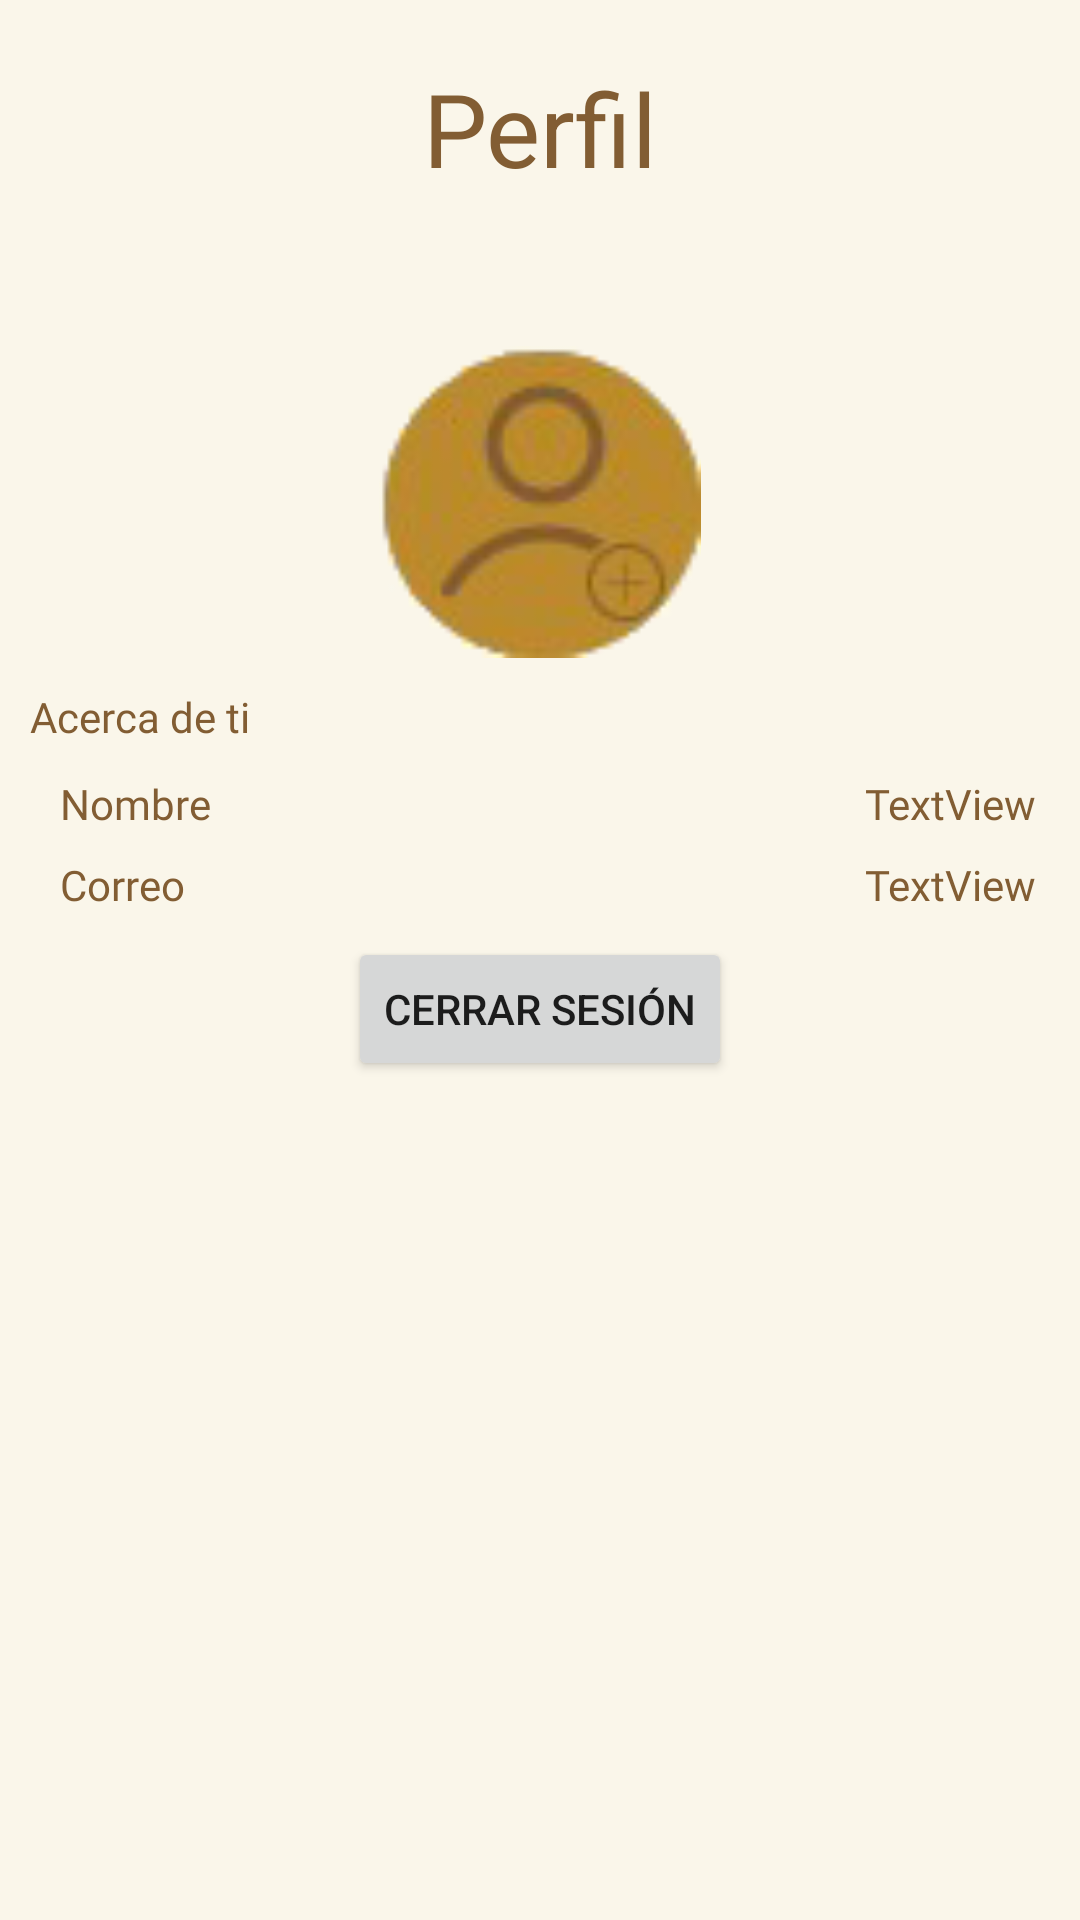

Icons on this 1080×1920 Android screen, each with its box as (x1, y1, x2, y2):
usuarioconelmas: (382, 349, 701, 658)
